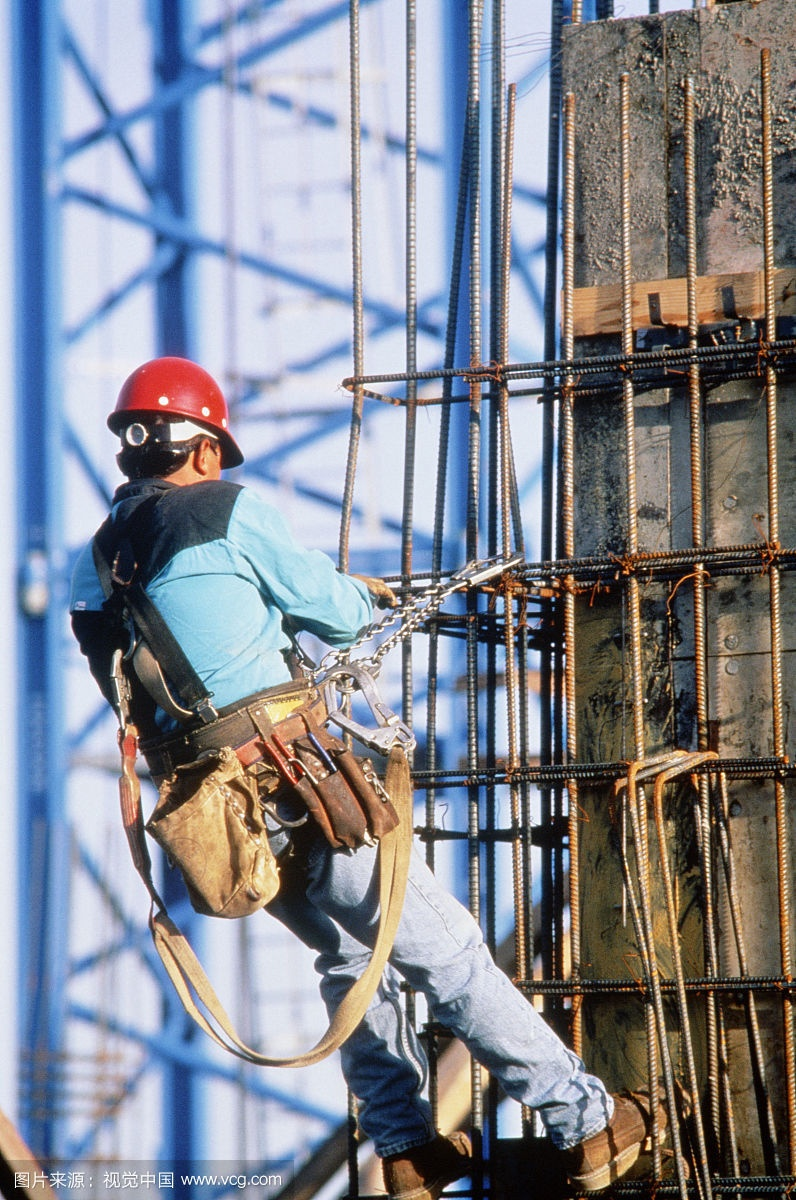red: (107, 362, 233, 493)
